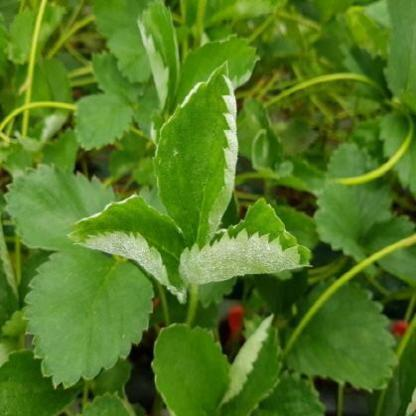Strawberry_Powdery_Mildew_Leaf: (152, 58, 238, 252), (64, 194, 188, 306), (176, 196, 316, 286), (171, 32, 261, 113), (136, 0, 180, 122)
